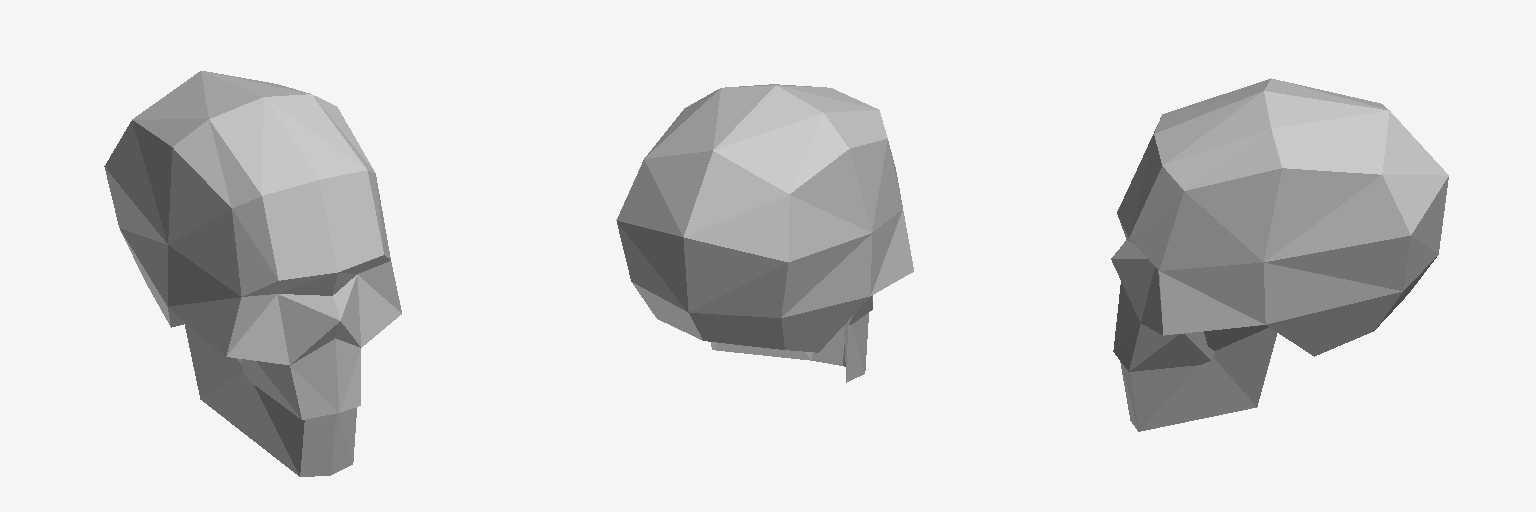
File: PSX_BoneSkull.obj
The picture shows the model from 3 angles: view 1: azimuth 30°, elevation 25°; view 2: azimuth 150°, elevation 25°; view 3: azimuth 270°, elevation 25°; orthographic projection.
Parts seen in each view (by area): view 1: PSX_BoneSkull; view 2: PSX_BoneSkull; view 3: PSX_BoneSkull.
Boxes of the visible parts, box(x1,y1,x2,y2) form: PSX_BoneSkull: box(104, 71, 401, 476); PSX_BoneSkull: box(616, 84, 913, 382); PSX_BoneSkull: box(1111, 78, 1448, 431).
Size of the model in its own units: 0.194 by 0.3183 by 0.2958.